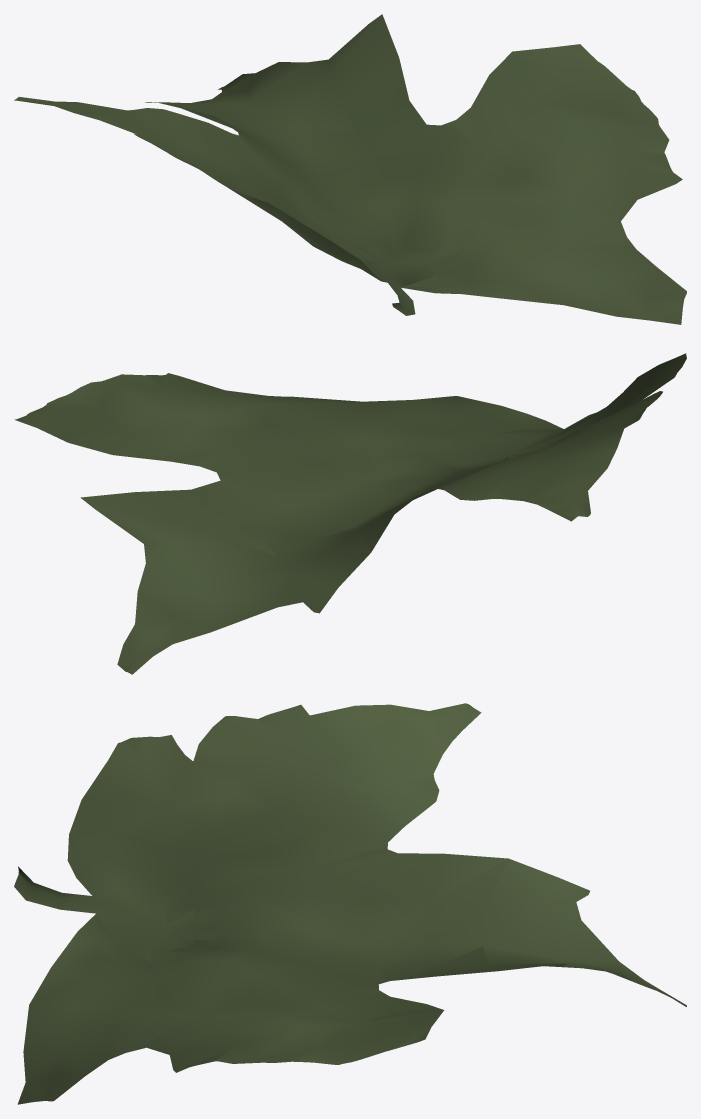
The model's file is trees-leaves-crumpled-leaf_v6.glb.
3 renders of one model, top to bottom at view 1: azimuth 30°, elevation 25°; view 2: azimuth 150°, elevation 25°; view 3: azimuth 270°, elevation 25°, orthographic. The views are drawn at different scales.
Visible parts, largest first — view 1: Crumpled Leaf_v6; view 2: Crumpled Leaf_v6; view 3: Crumpled Leaf_v6.
Boxes of the visible parts, x1,y1,x2,y2 form: Crumpled Leaf_v6: (14,14,686,324); Crumpled Leaf_v6: (14,353,686,674); Crumpled Leaf_v6: (14,703,686,1104).
Bounding box in the file's own units: 0.1177 × 0.0384 × 0.12.
